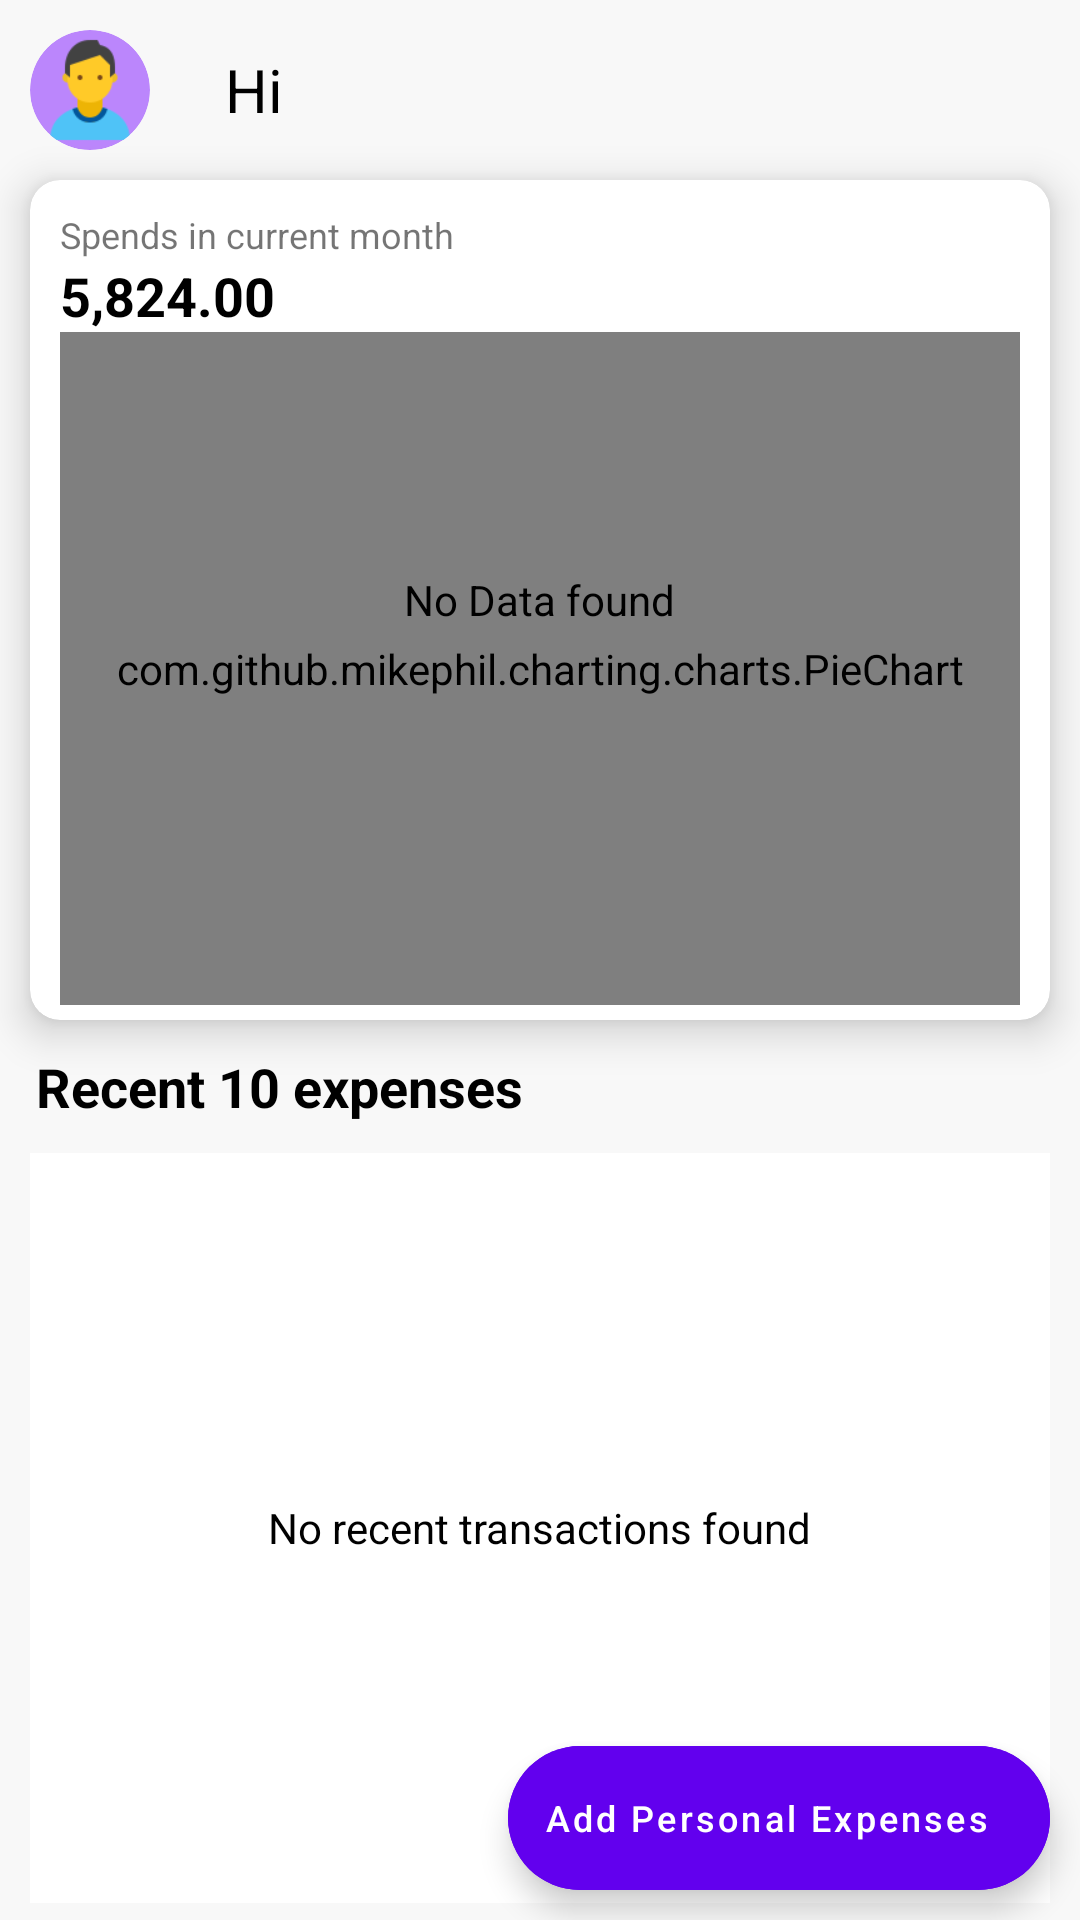

Named icons in this screenshot (1080px x 1920px) and their bounding boxes, (x1,y1,x2,y2):
male: (30,30,150,150)
